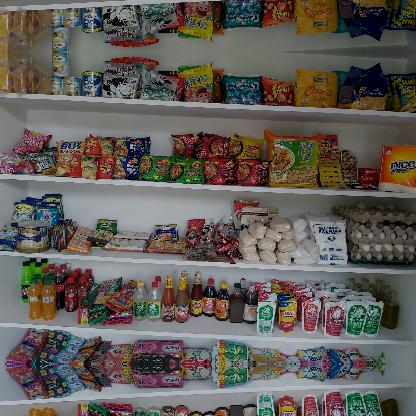Lady-s-Choice: (16, 219, 50, 252)
